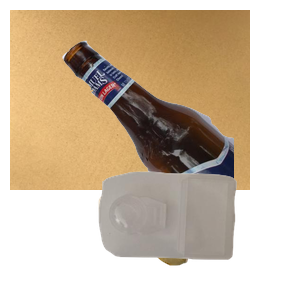cardboard: (10, 10, 250, 190)
glass: (60, 38, 300, 218)
plastic: (96, 169, 300, 300)
trash: (96, 181, 277, 300)
